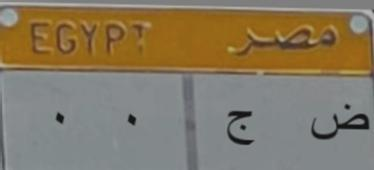0: (47, 104, 70, 132), (124, 108, 140, 130)
daad: (309, 102, 372, 147)
jeem: (224, 108, 262, 152)
